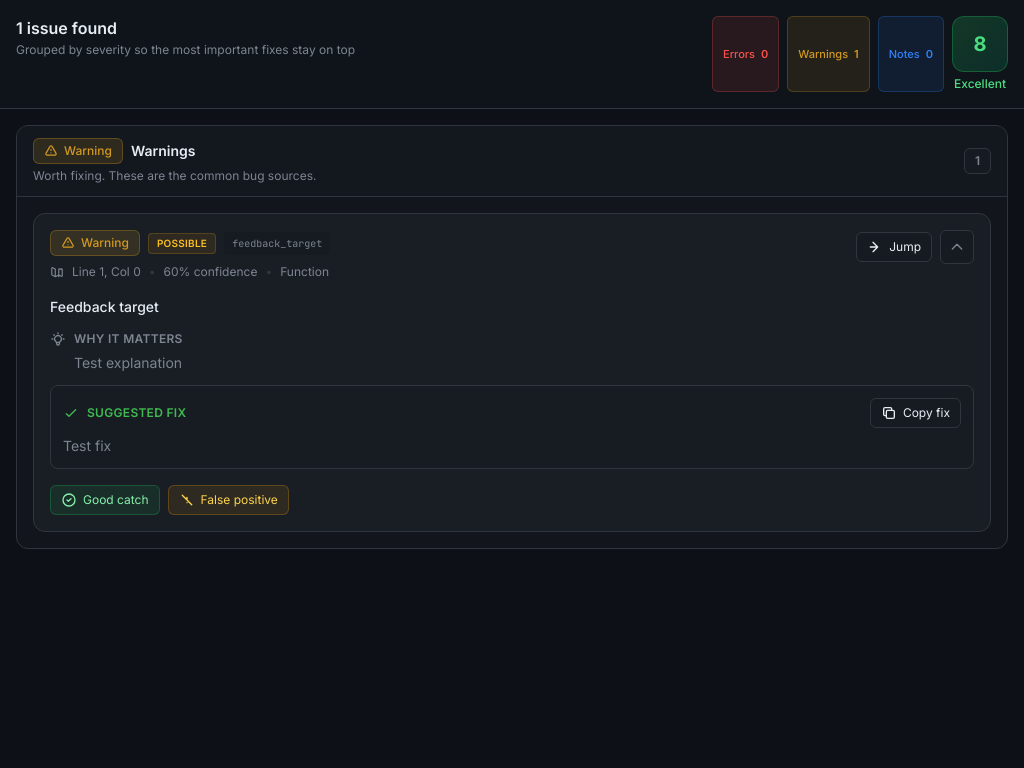
Test: ResultsPanel Component › Grouping and Actions › records inline feedback for a finding
Click the button "Good catch" at (105, 500), box [50,485,160,515]
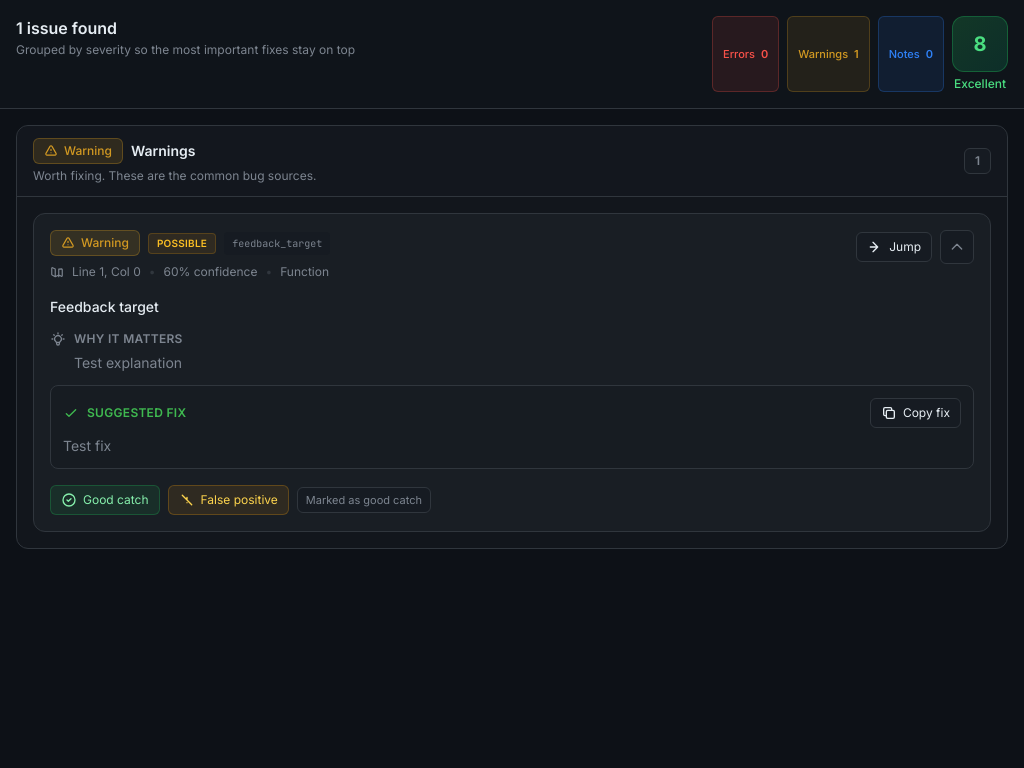
expect the text "Marked as good catch" is shown: met, box [297,486,431,513]
